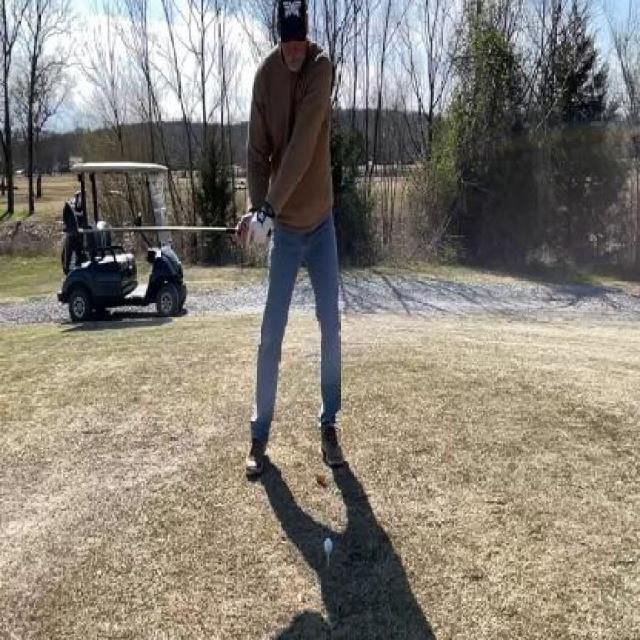club head: (61, 197, 87, 241)
